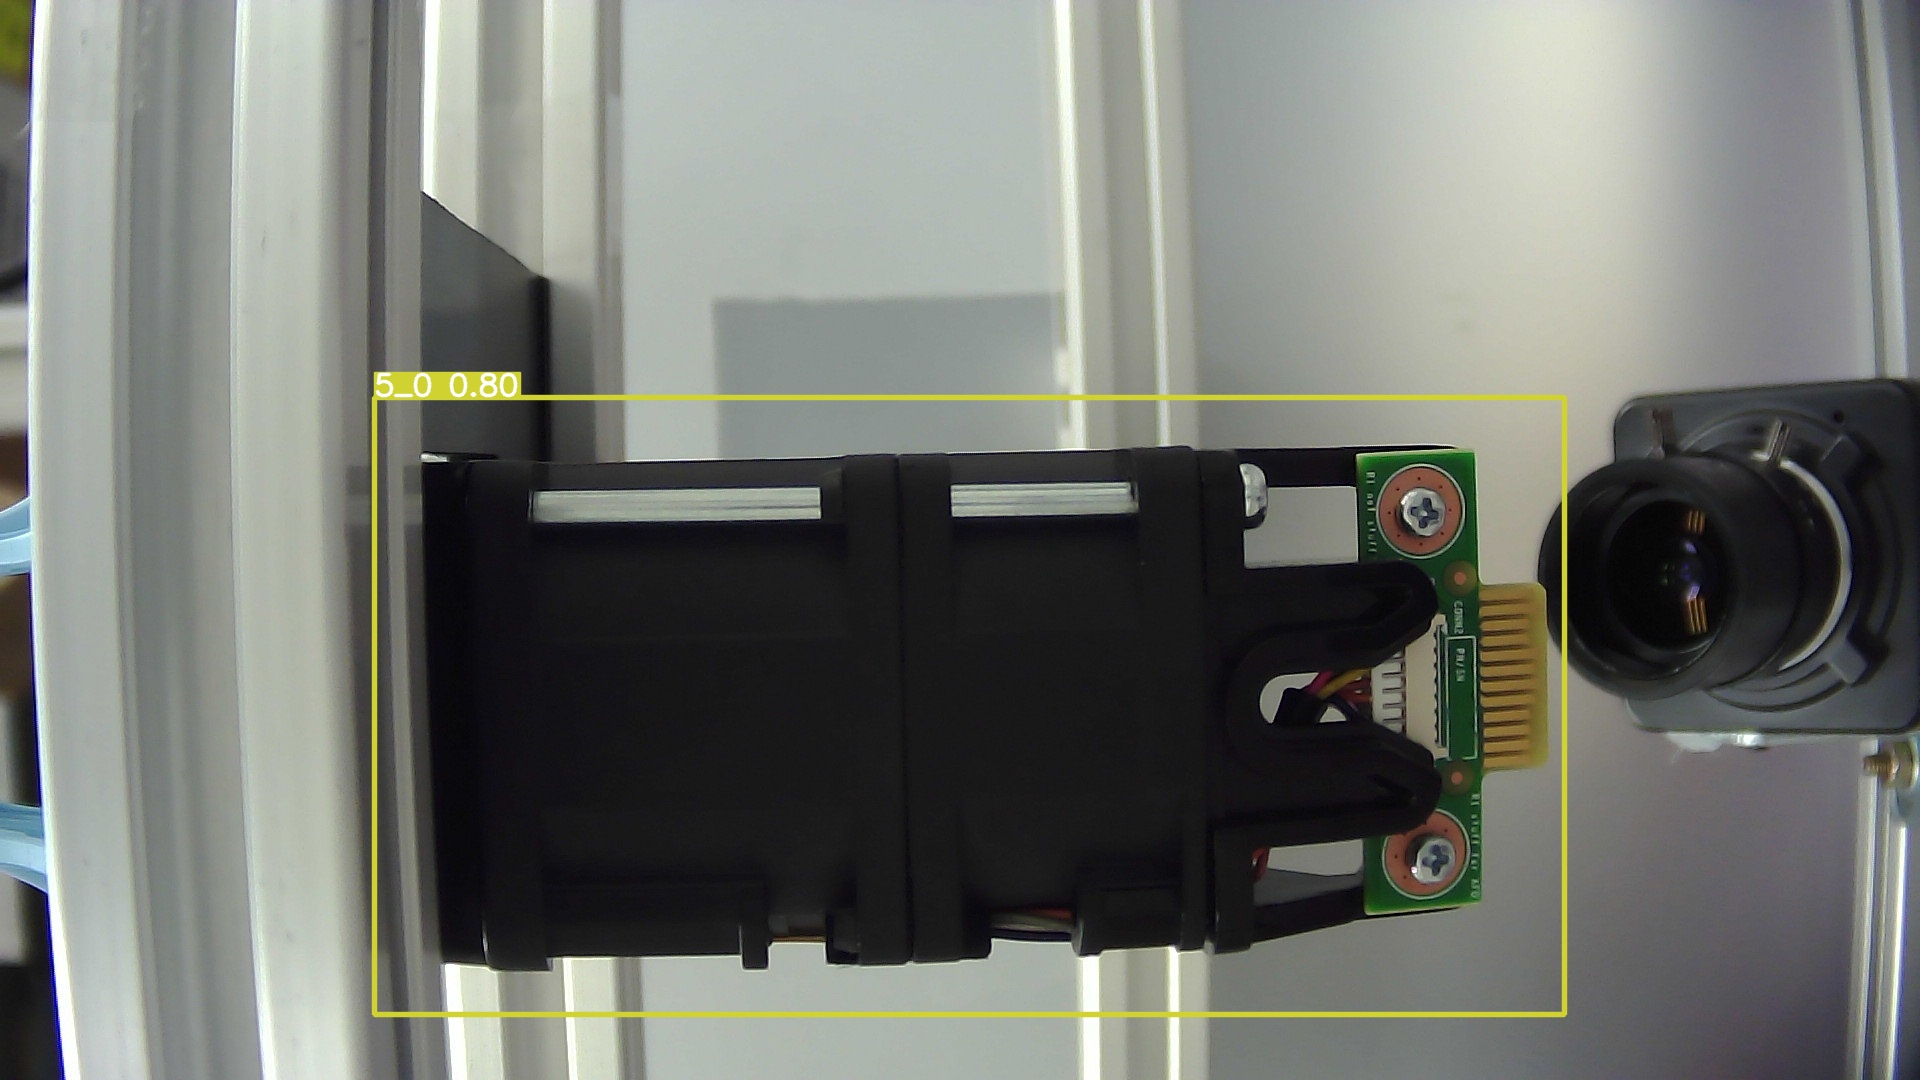2_0: (26, 108, 1863, 1052)
